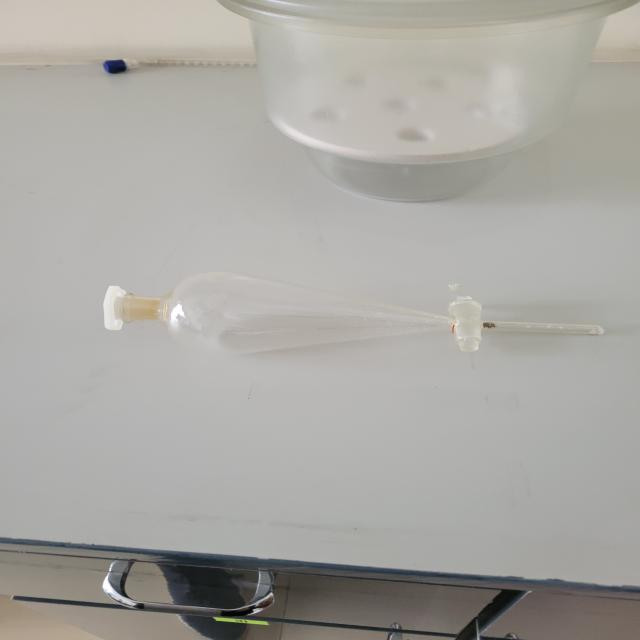Separating_Funnel: (85, 232, 640, 419)
